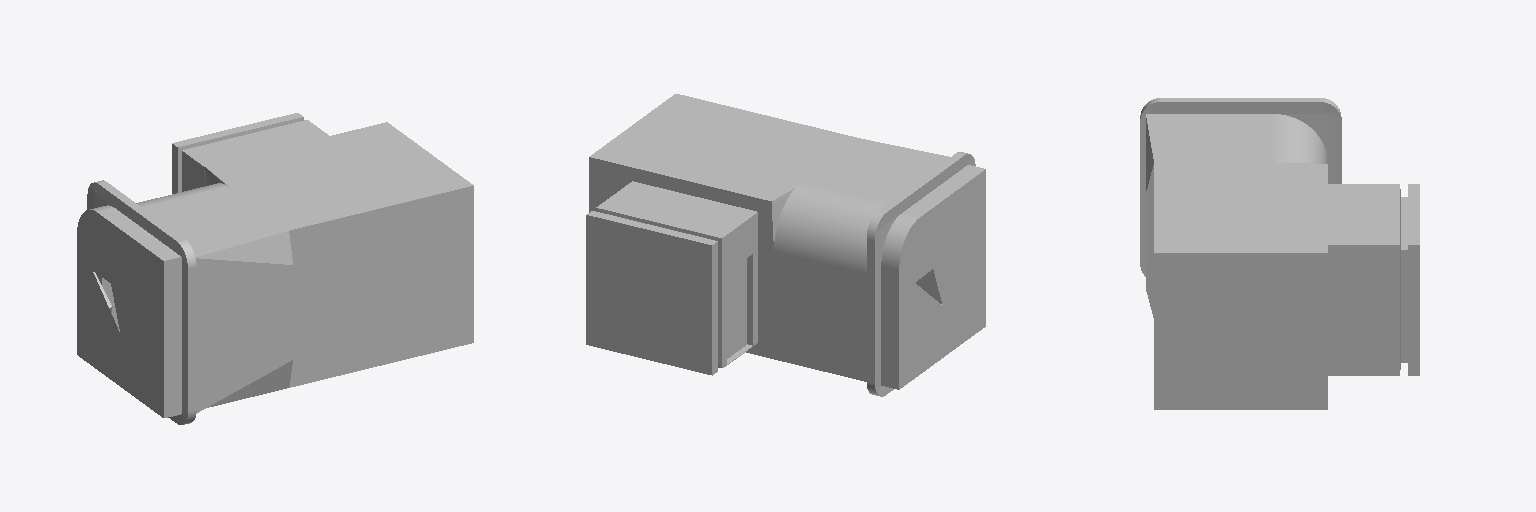
Rendered from startercelle_noplatform.obj.
The picture shows the model from 3 angles: view 1: azimuth 30°, elevation 25°; view 2: azimuth 150°, elevation 25°; view 3: azimuth 270°, elevation 25°; orthographic projection.
Parts seen in each view (by area): view 1: Cube_Cube.001; view 2: Cube_Cube.001; view 3: Cube_Cube.001.
Part boxes in pixels (x1,y1,x2,y2): Cube_Cube.001: (77,113,473,424); Cube_Cube.001: (586,94,985,396); Cube_Cube.001: (1140,98,1419,409).
Bounding box in the file's own units: 4.13 × 2.32 × 3.22.